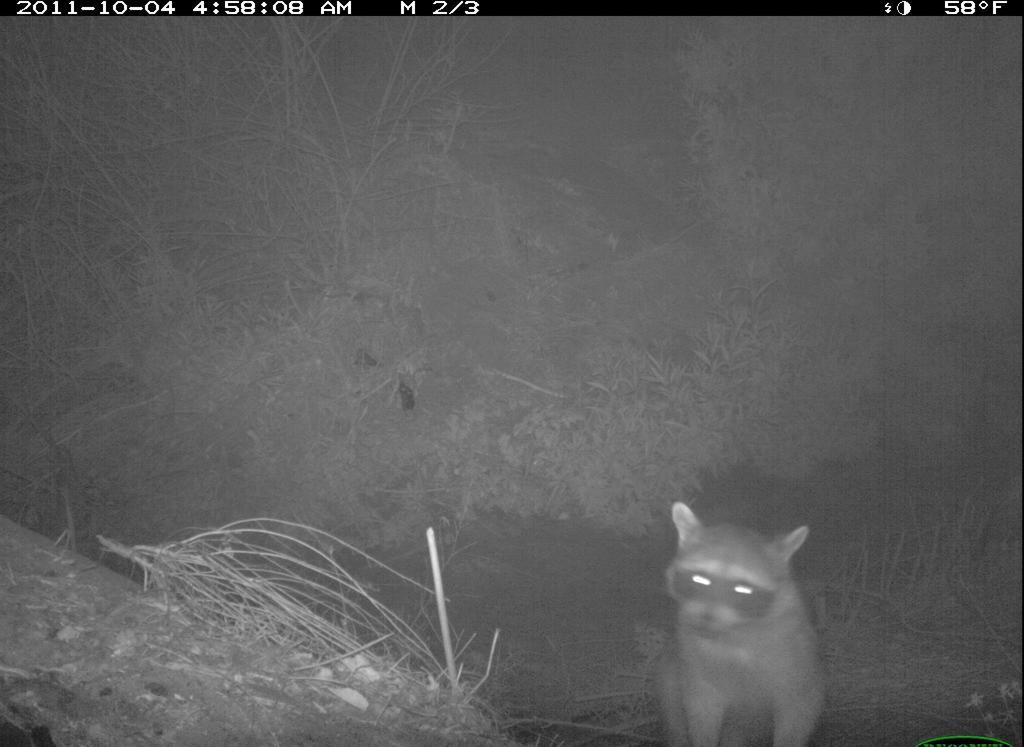raccoon: (633, 466, 859, 745)
